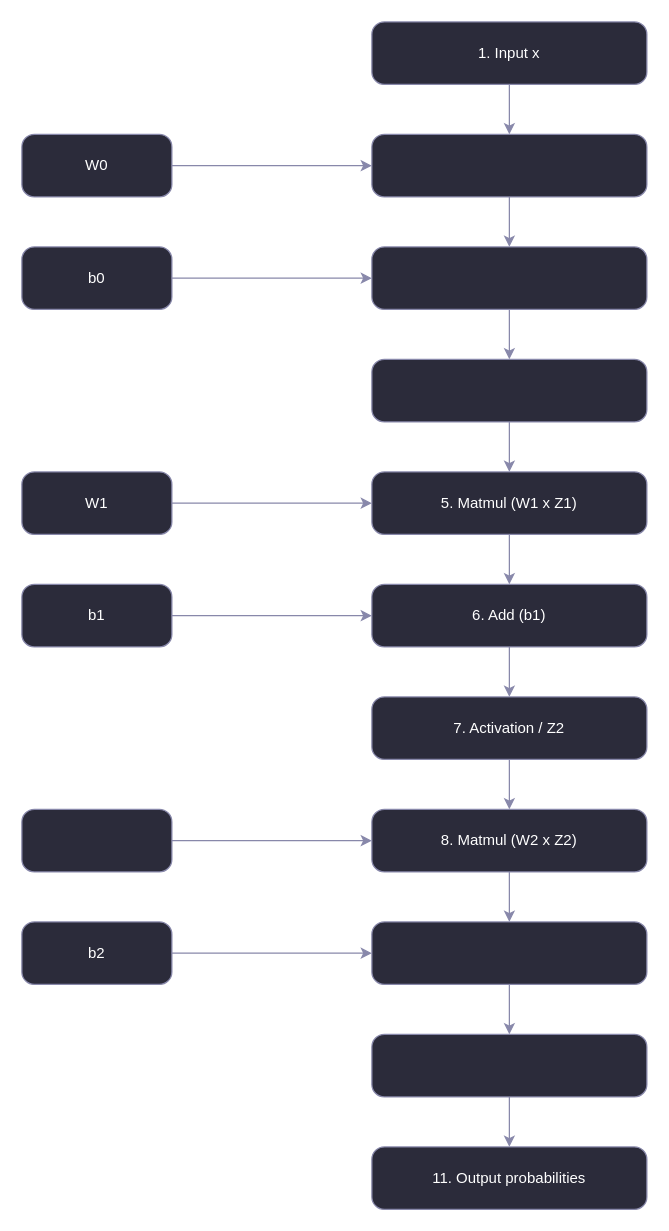
Image size: 669x1231. Some labels were removed from this diagram. The shapes that lost their labels are listed below. From the top down, each one's box as (x1, y1, x2, y2) in pixels, then its label:
(371, 133, 647, 197): 2. Matmul (W0 x x)
(371, 246, 647, 309): 3. Add (b0)
(371, 358, 647, 422): 4. Activation / Z1
(21, 808, 172, 872): W2
(371, 921, 647, 984): 9. Add (b2)
(371, 1033, 647, 1097): 10. Softmax
